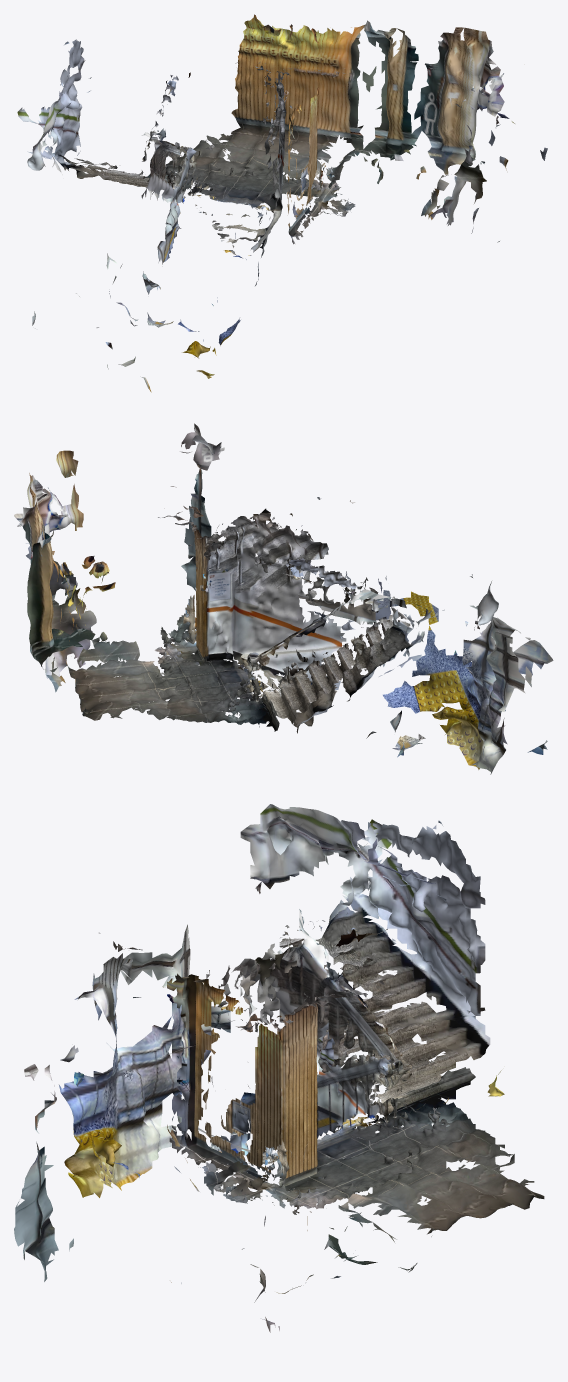
The model's file is 138516-2ndfloor-tex.glb.
The picture shows the model from 3 angles, top to bottom: view 1: azimuth 30°, elevation 25°; view 2: azimuth 150°, elevation 25°; view 3: azimuth 270°, elevation 25°; orthographic projection. The views are drawn at different scales.
Parts seen in each view (by area): view 1: Node; view 2: Node; view 3: Node.
Boxes of the visible parts, left/top/right/bottom form: Node: left=17, top=14, right=547, bottom=392; Node: left=14, top=423, right=553, bottom=774; Node: left=14, top=804, right=544, bottom=1332.
Size of the model in its own units: 11.32 by 5.59 by 7.25.
11 materials, 11 textured.
